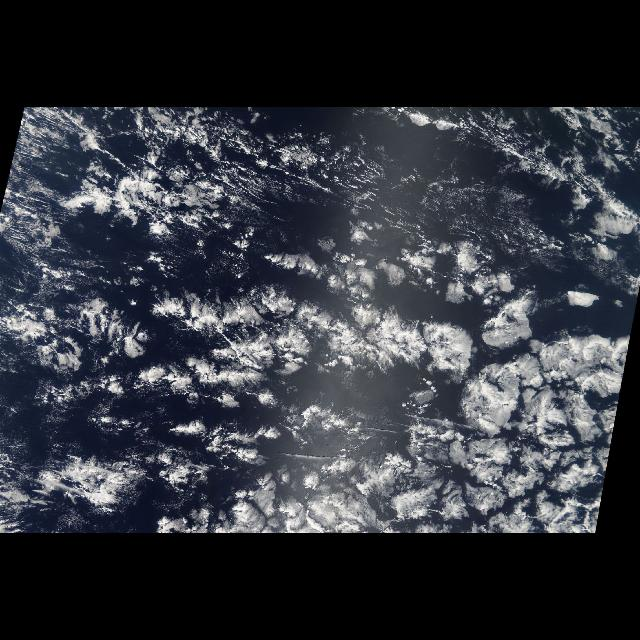Flower: (43, 239, 632, 531)
